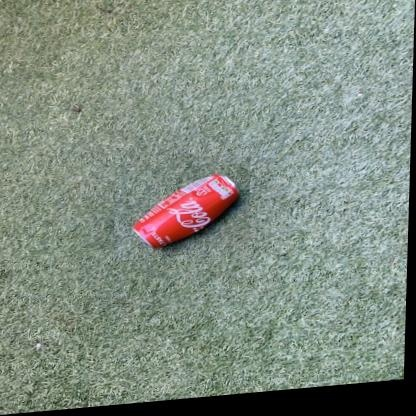trash: (133, 173, 238, 247)
